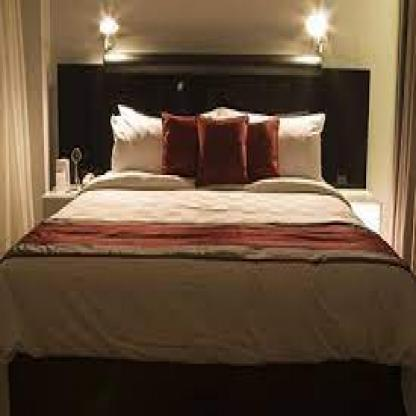Bed: (3, 52, 405, 416)
